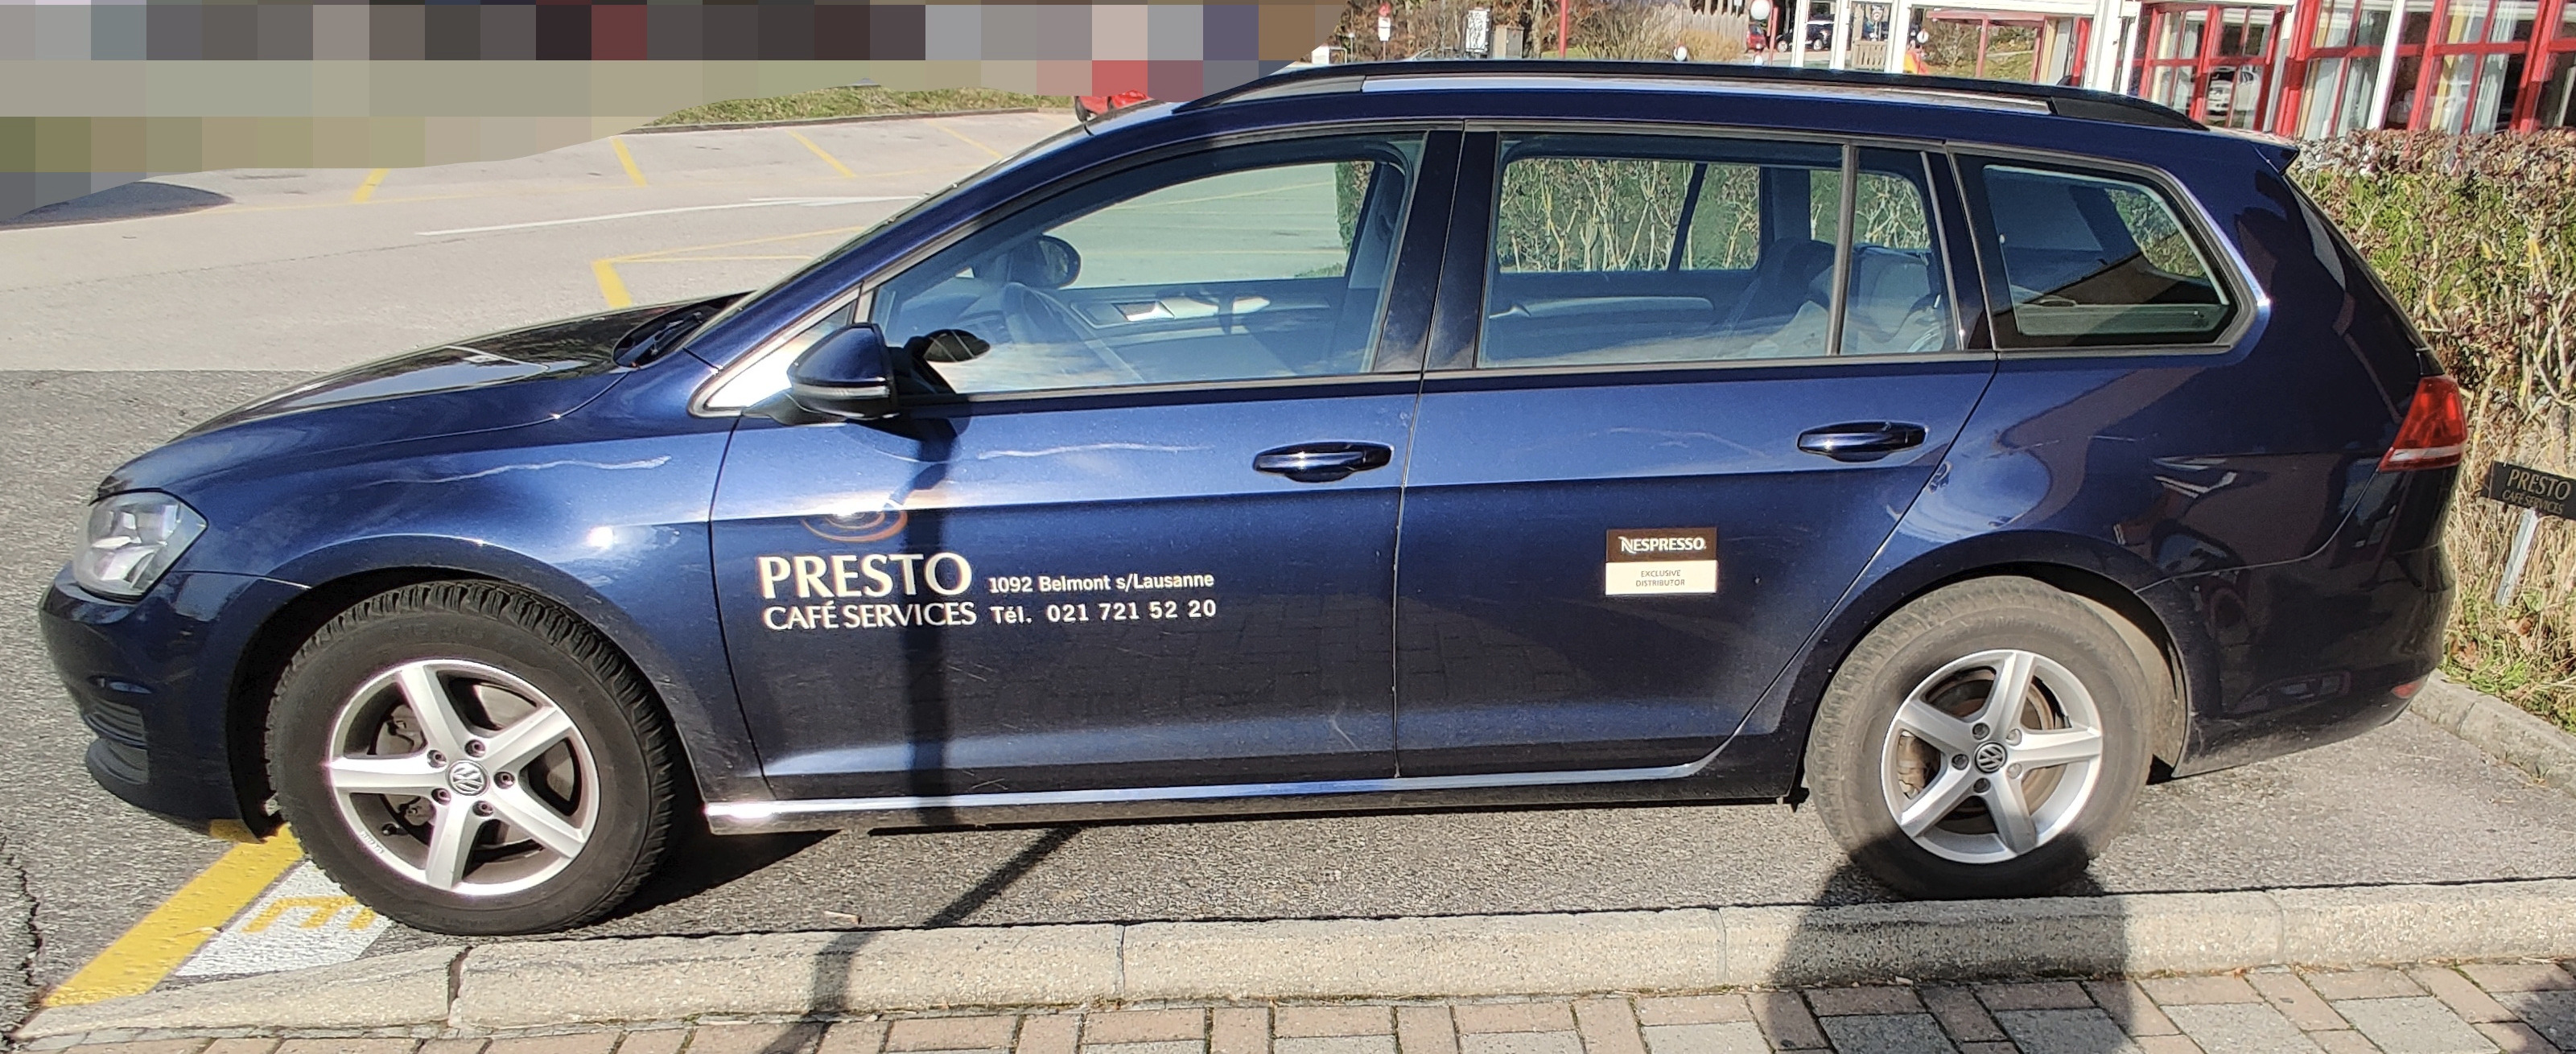mobil: (17, 51, 2472, 941)
